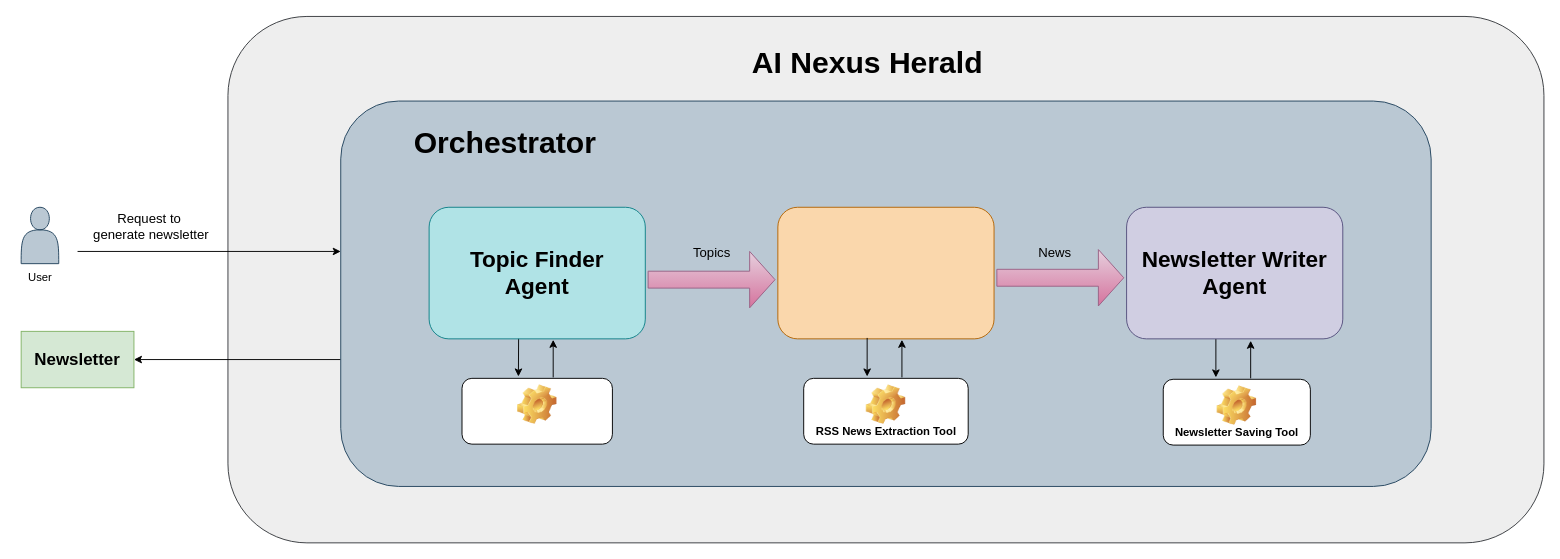
This 1560x559 diagram has some shape labels left out. The centre of each missing label's shape, as x and y in pixels:
Deep Research Agent: the point at 885,272
RSS Title Extraction Tool: the point at 536,410
